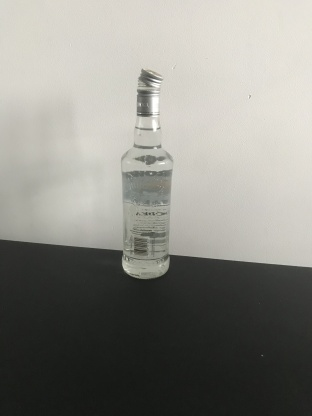nakretka: (135, 66, 164, 116)
